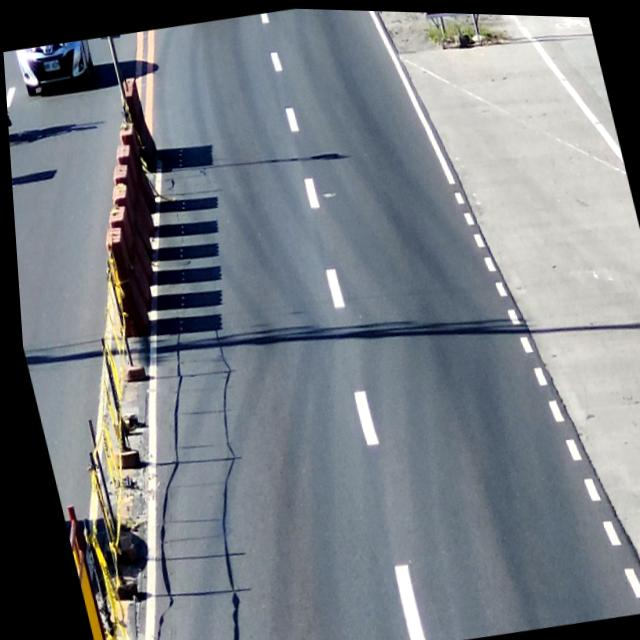License-Plate: (37, 55, 62, 75)
